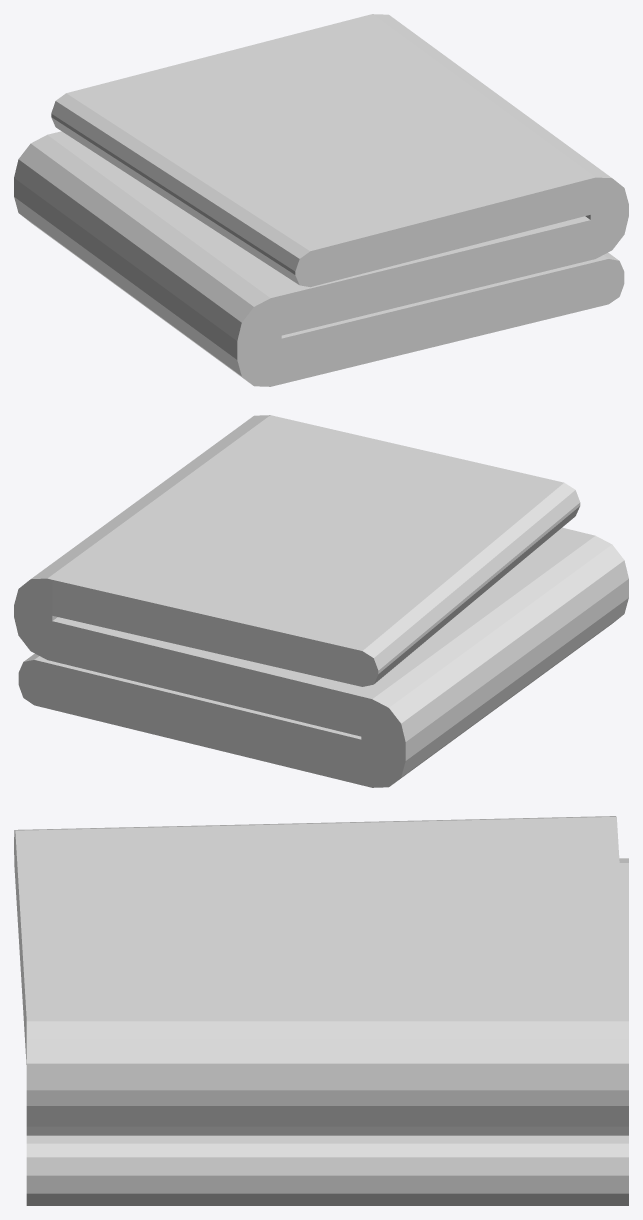
File: Towel2.fbx
3 views of the same model, one above another, from view 1: azimuth 30°, elevation 25°; view 2: azimuth 150°, elevation 25°; view 3: azimuth 270°, elevation 25° (orthographic). The views are drawn at different scales.
Visible parts, largest first — view 1: Prop_Towel_01; view 2: Prop_Towel_01; view 3: Prop_Towel_01.
Boxes of the visible parts, <box> form: Prop_Towel_01: <box>14,14,628,386</box>; Prop_Towel_01: <box>14,415,628,787</box>; Prop_Towel_01: <box>14,816,628,1205</box>.
Size of the model in its own units: 30.61 by 9.71 by 30.86.
1 material, 1 textured.
